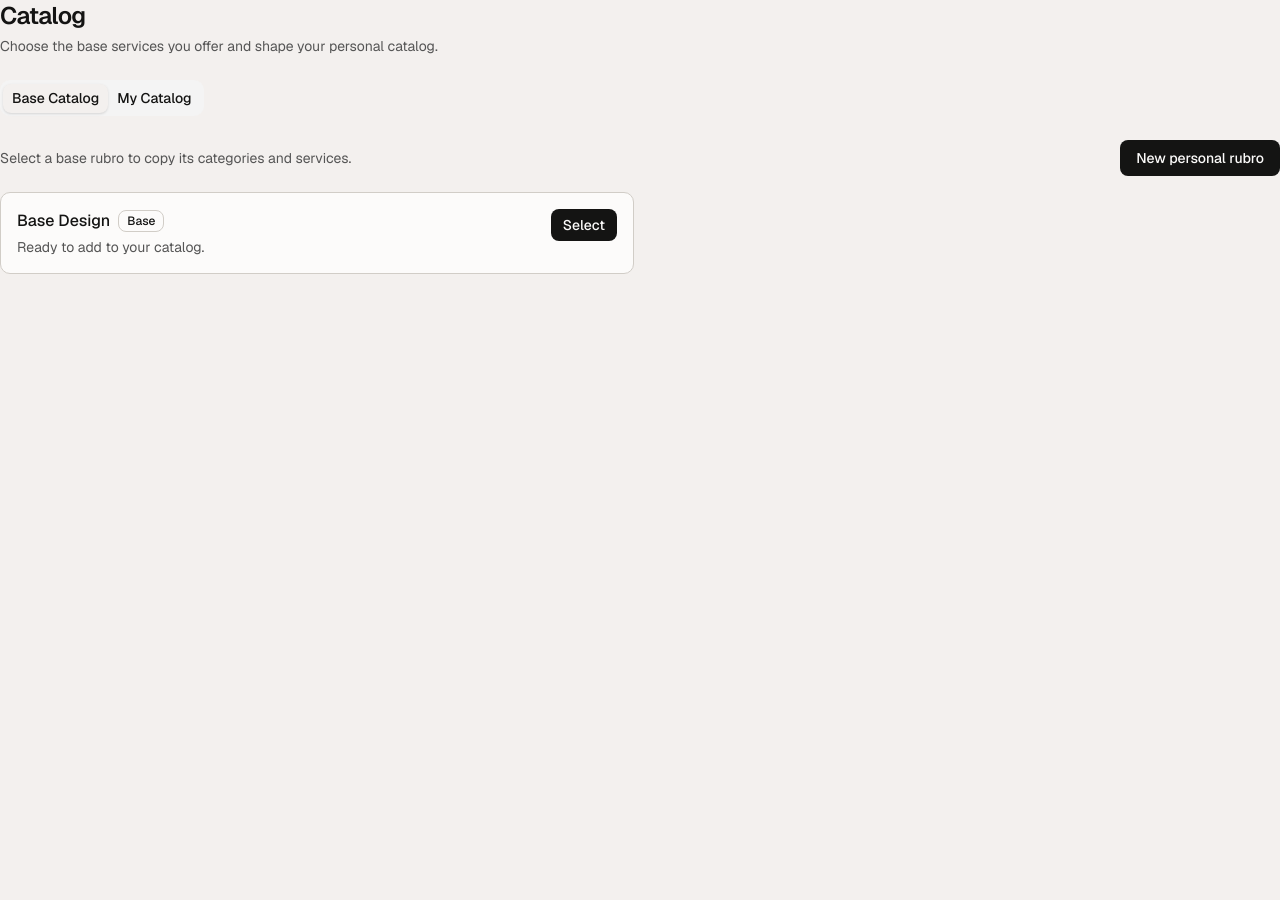
it: CatalogoPage — 409 conflict › maps a 409 response to a form-level error and keeps the dialog open
Click the tab "My Catalog".
click(154, 98)  # box [108,84,200,112]
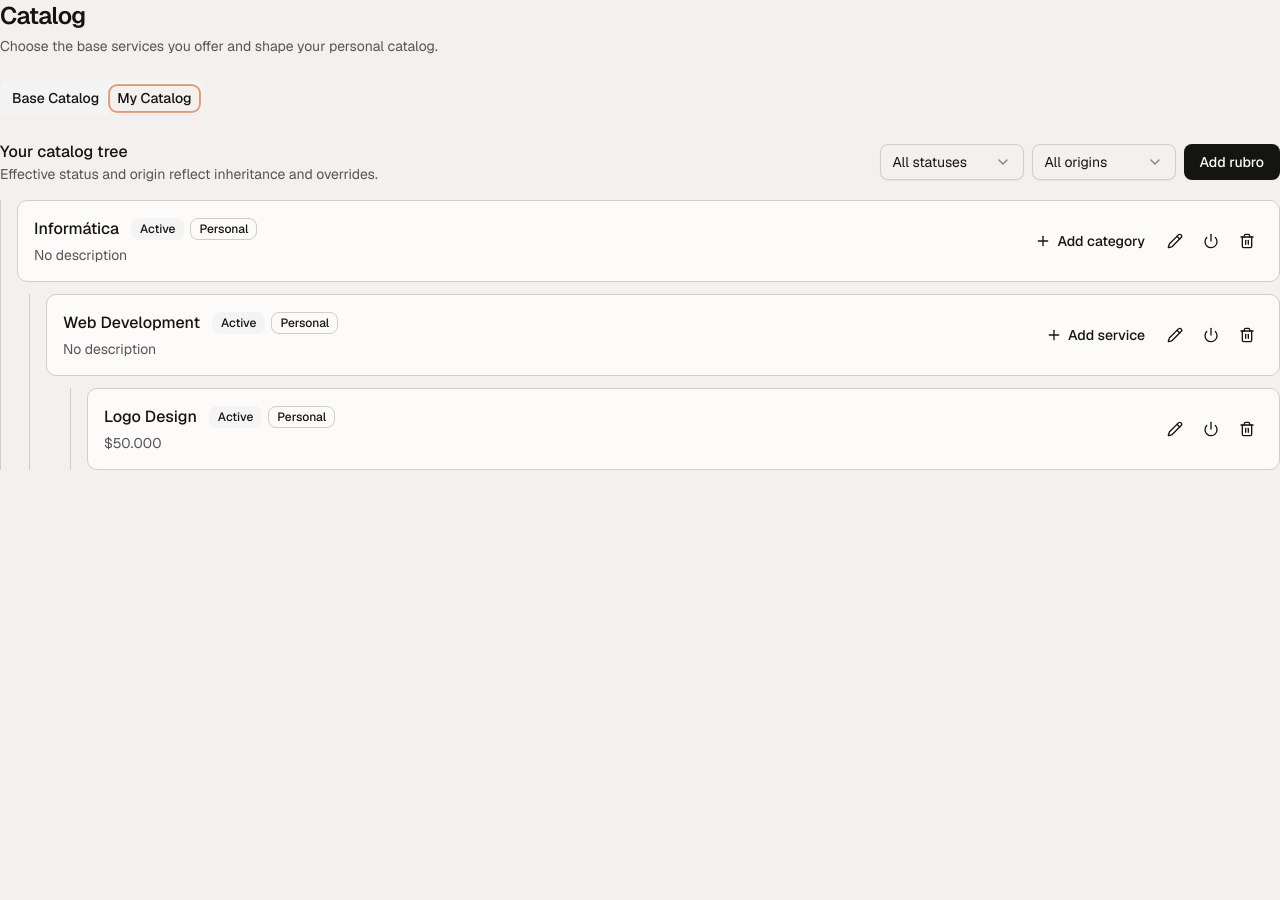
Check: the heading "Informática" is shown, box [34,217,119,241]
Click the button "Add category".
click(1090, 241)  # box [1025,225,1155,257]
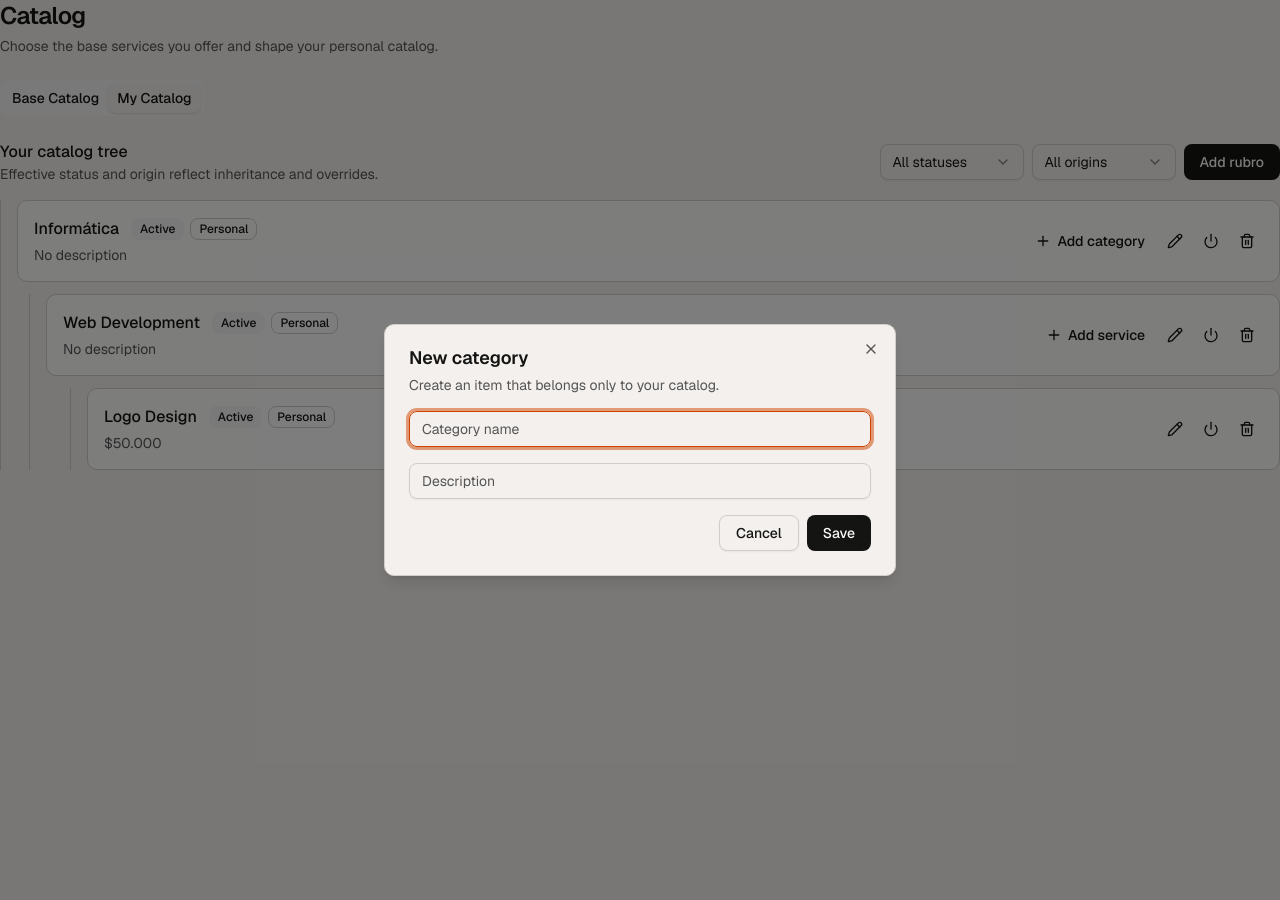
Type "Consulting" into the field labelled "name".
click(640, 429); type("Consulting")  # box [409,411,871,447]
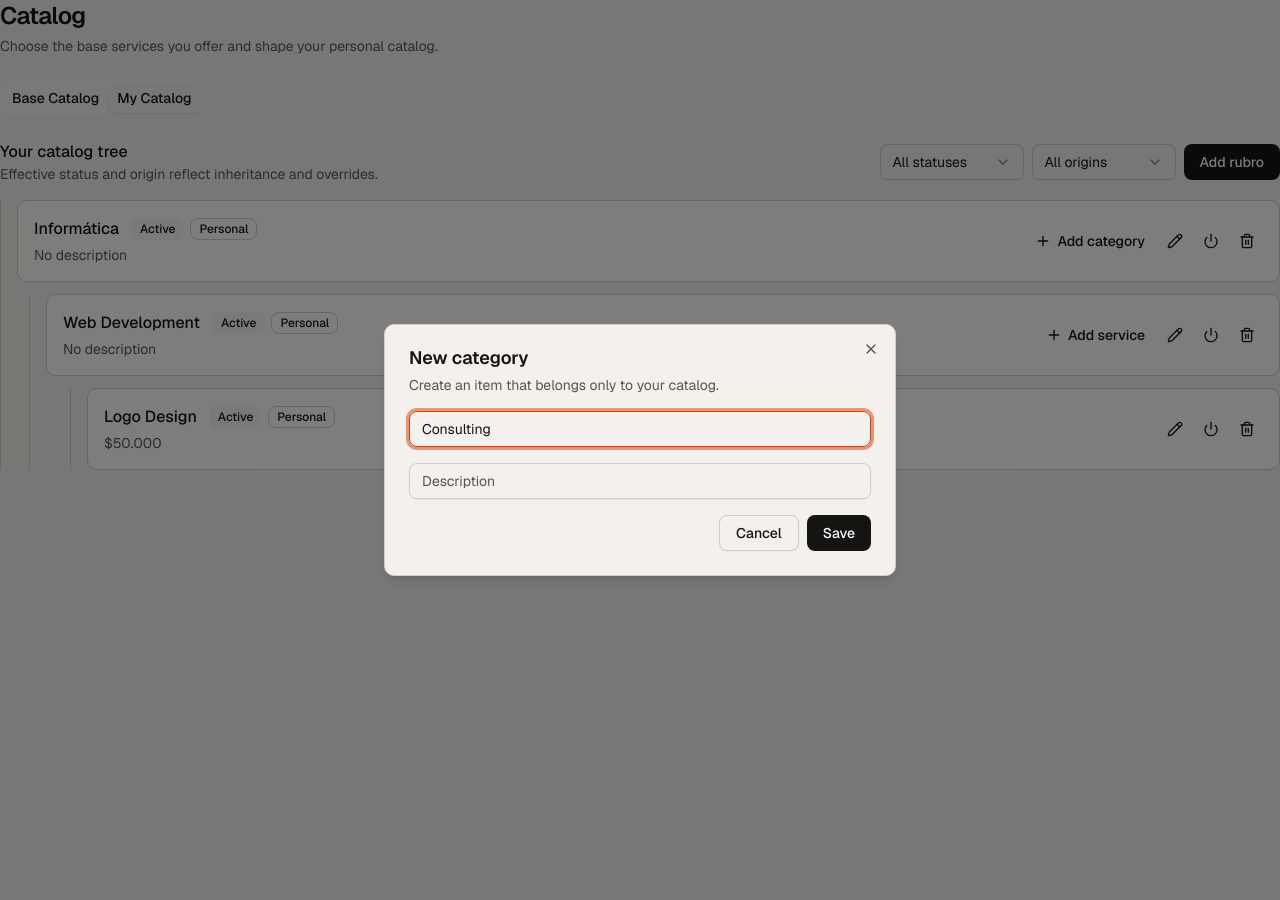
Click the button "Save".
click(839, 533)  # box [807,515,871,551]
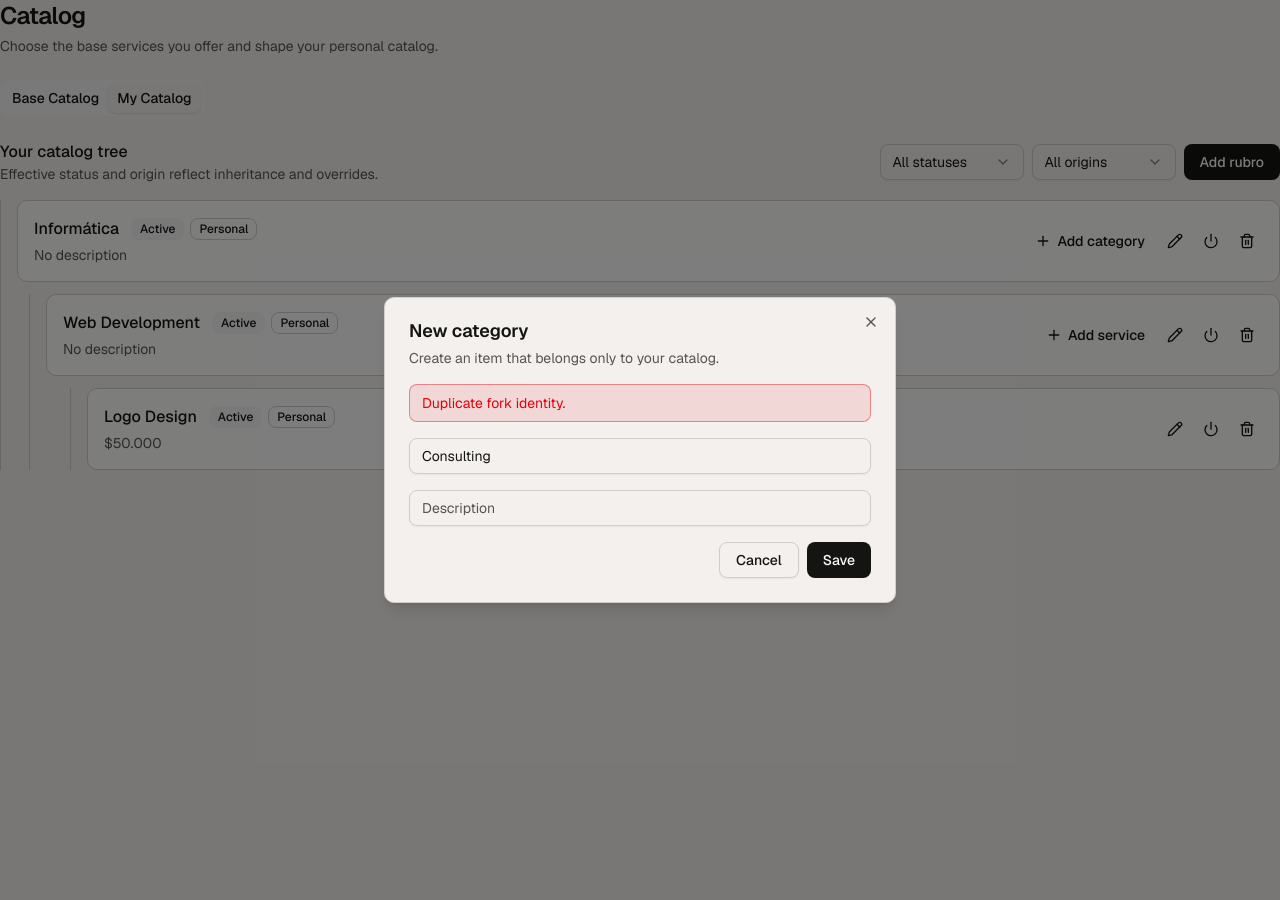
Check: the heading "New category" is shown, box [409,319,528,342]
Check: the message reads "Duplicate fork identity.", box [422,394,565,412]
